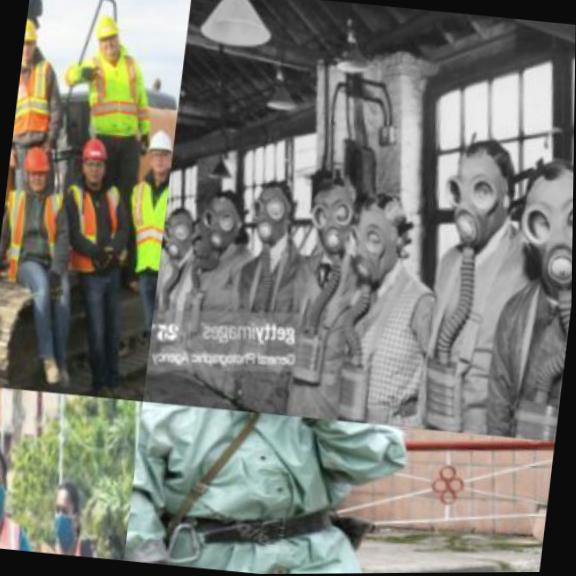safety_vest: (124, 399, 395, 575), (51, 175, 126, 277), (0, 182, 70, 282), (77, 52, 142, 142), (114, 171, 169, 274), (12, 61, 60, 142), (0, 509, 40, 552)
